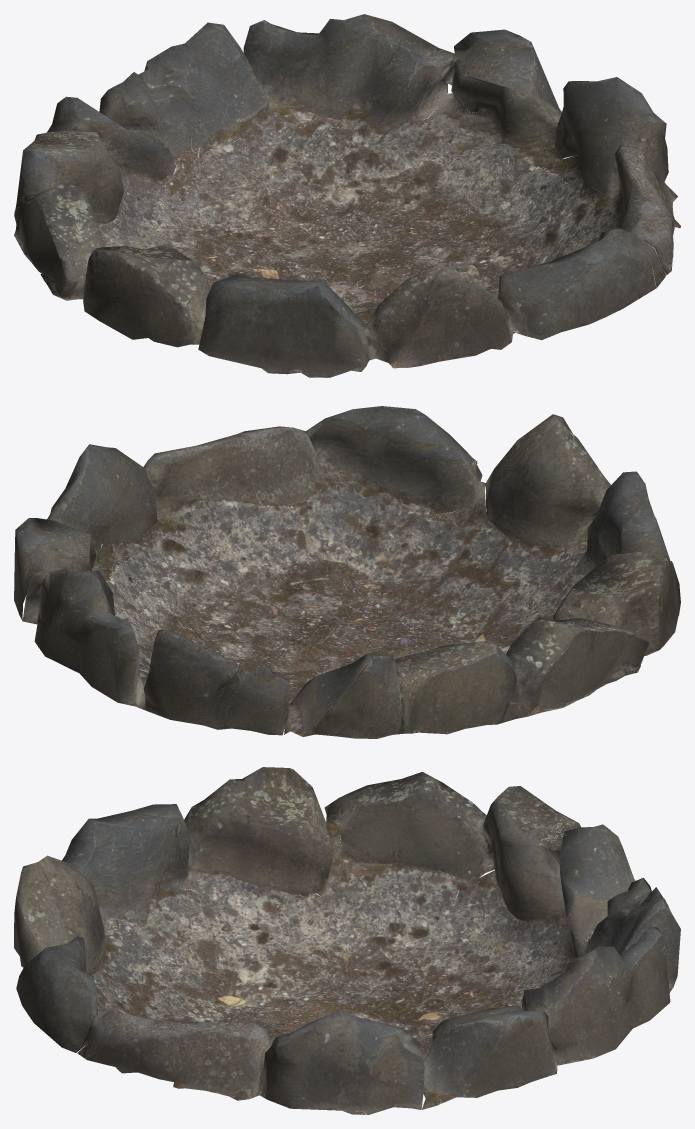
File: hearth_stones.glb
3 renders of one model, top to bottom at view 1: azimuth 30°, elevation 25°; view 2: azimuth 150°, elevation 25°; view 3: azimuth 270°, elevation 25°, orthographic.
Parts seen in each view (by area): view 1: stone_fire_pit; view 2: stone_fire_pit; view 3: stone_fire_pit.
Boxes of the visible parts, <box> form: stone_fire_pit: <box>14,14,680,377</box>; stone_fire_pit: <box>14,406,680,738</box>; stone_fire_pit: <box>14,767,680,1114</box>.
Bounding box in the file's own units: 1.3 × 0.3468 × 1.29.
Materials: 1 (1 with a texture image).
